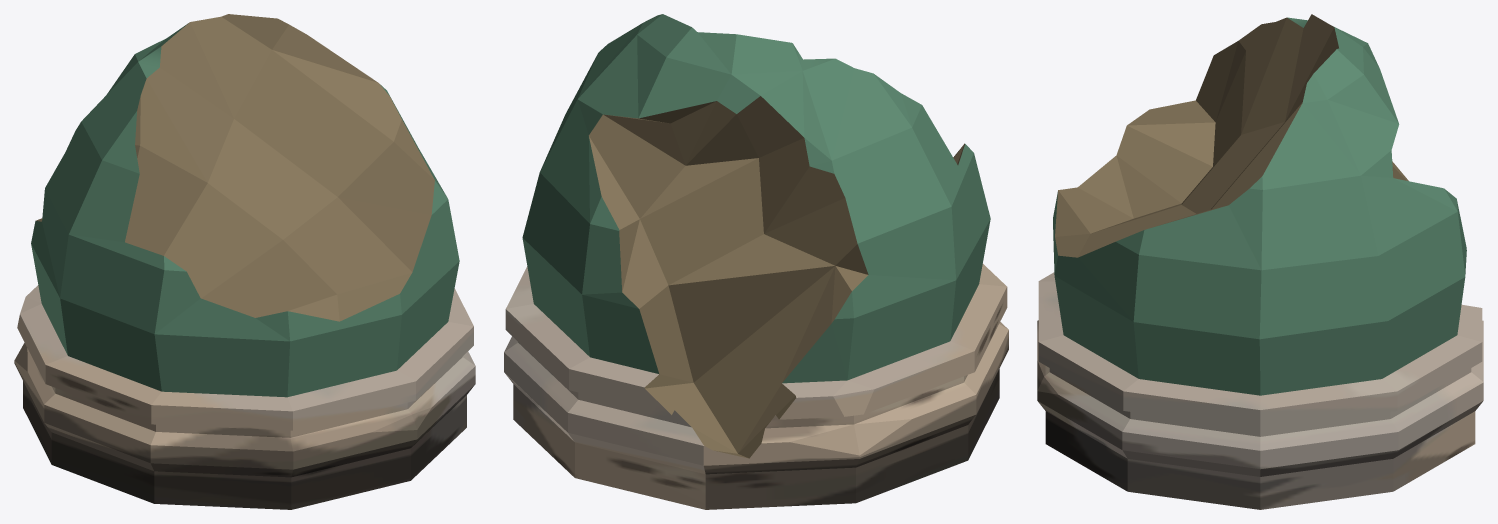
Rendered from SM_Bld_Roof_Cap_Destroyed_03.glb.
3 renders of one model, left to right at view 1: azimuth 30°, elevation 25°; view 2: azimuth 150°, elevation 25°; view 3: azimuth 270°, elevation 25°, orthographic. The views are drawn at different scales.
Parts seen in each view (by area): view 1: SM_Bld_Roof_Cap_Destroyed_03; view 2: SM_Bld_Roof_Cap_Destroyed_03; view 3: SM_Bld_Roof_Cap_Destroyed_03.
Part boxes in pixels (x1,y1,x2,y2): SM_Bld_Roof_Cap_Destroyed_03: (14, 14, 475, 509); SM_Bld_Roof_Cap_Destroyed_03: (504, 14, 1008, 509); SM_Bld_Roof_Cap_Destroyed_03: (1037, 14, 1483, 509).
Bounding box in the file's own units: 2.54 × 2.26 × 2.42.
1 material, 1 textured.
